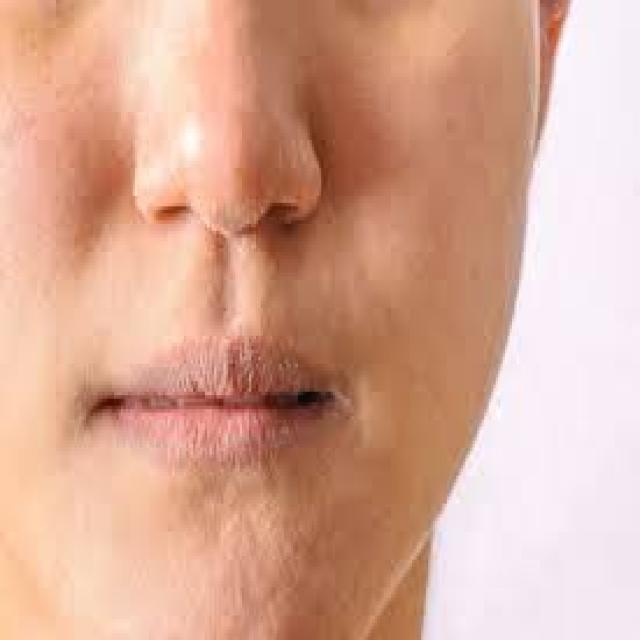dry: (56, 131, 124, 210), (266, 524, 320, 600), (212, 186, 262, 248), (342, 536, 382, 598), (346, 73, 376, 135)
